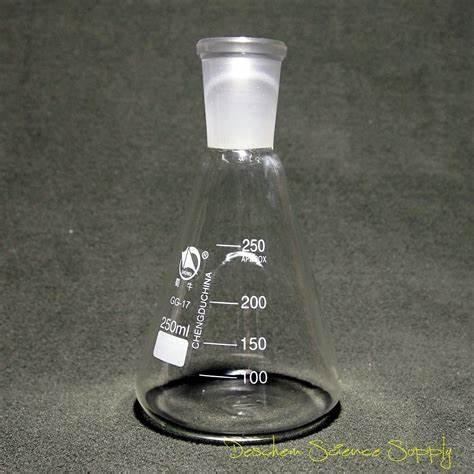Titrarion: (135, 19, 349, 438)
